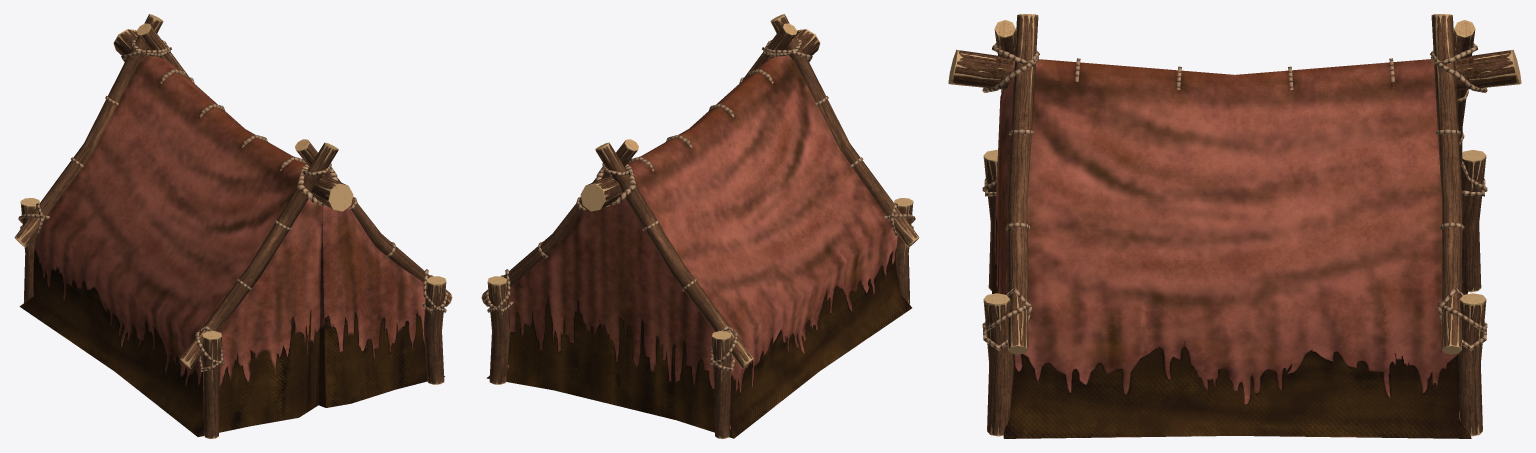
Rendered from Tent_2.fbx.
3 views of the same model, side by side, from view 1: azimuth 30°, elevation 25°; view 2: azimuth 150°, elevation 25°; view 3: azimuth 270°, elevation 25° (orthographic). The views are drawn at different scales.
Visible parts, largest first — view 1: Plane; view 2: Plane; view 3: Plane.
Part boxes in pixels (box(x1,y1,x2,y2)): Plane: box(14, 14, 452, 438); Plane: box(481, 14, 919, 438); Plane: box(948, 14, 1521, 438).
Size of the model in its own units: 269 by 250 by 379.
